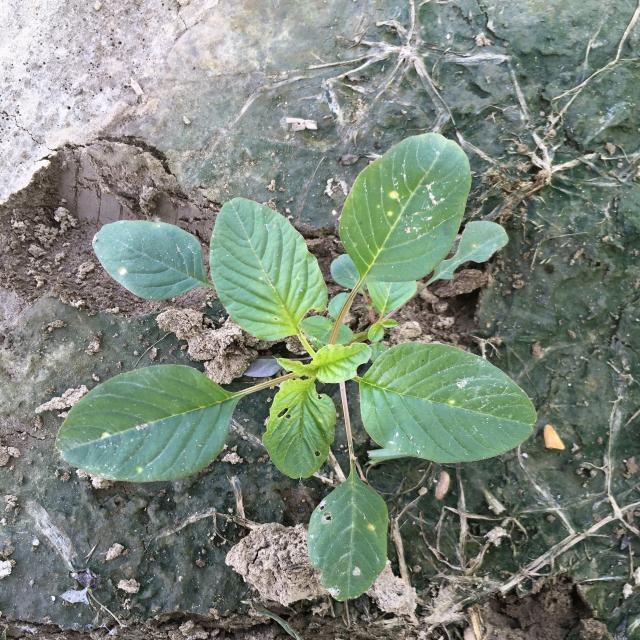PalmerAmaranth: (55, 132, 538, 602)
